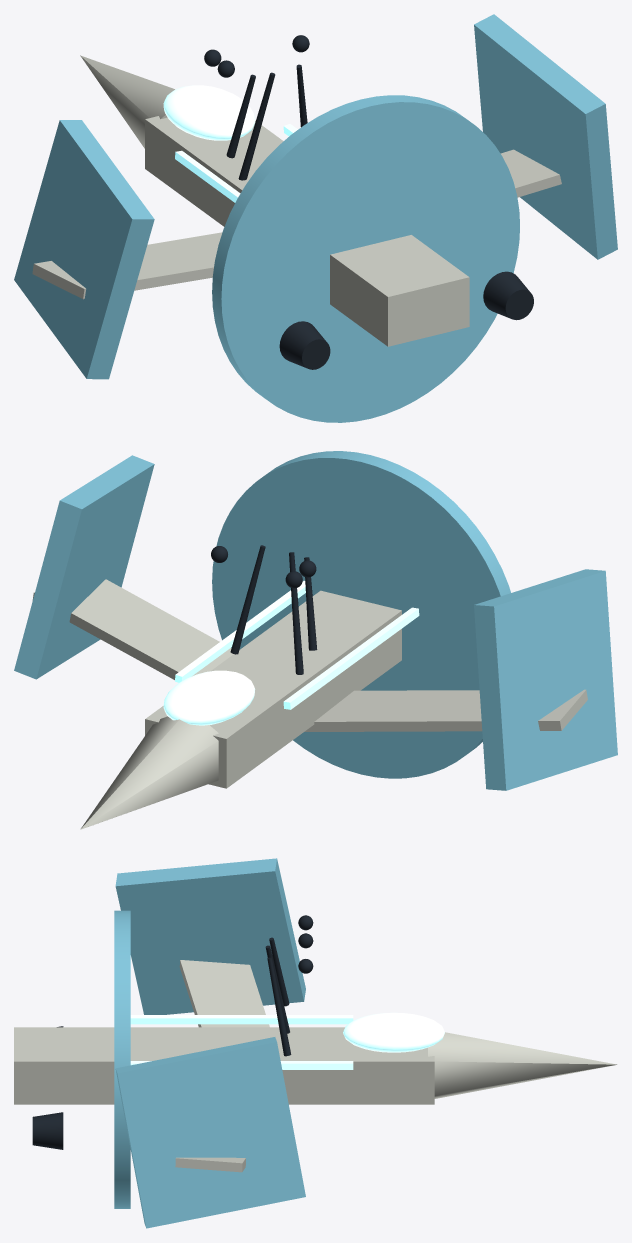
File: wayfarer-x.glb
The picture shows the model from 3 angles, top to bottom: view 1: azimuth 30°, elevation 25°; view 2: azimuth 150°, elevation 25°; view 3: azimuth 270°, elevation 25°; orthographic projection. The views are drawn at different scales.
Parts seen in each view (by area): view 1: aft survey ring, folding sensor lattice -1, folding sensor lattice 1, deep signal keel, wide survey wing -1, forward sensor canopy, survey prow, quiet micro thruster -1, quiet micro thruster 1, wide survey wing 1, survey blue stripe -1, thin comm mast 0 (+1 smaller); view 2: aft survey ring, folding sensor lattice -1, deep signal keel, folding sensor lattice 1, survey prow, wide survey wing -1, wide survey wing 1, forward sensor canopy, survey blue stripe -1, survey blue stripe 1, thin comm mast 1, thin comm mast 0 (+1 smaller); view 3: folding sensor lattice 1, deep signal keel, folding sensor lattice -1, survey prow, aft survey ring, wide survey wing -1, forward sensor canopy, survey blue stripe -1, quiet micro thruster 1, wide survey wing 1, survey blue stripe 1, thin comm mast 1.
Part boxes in pixels (x1,y1,x2,y2): aft survey ring: [212, 95, 519, 422]; folding sensor lattice -1: [14, 120, 154, 379]; folding sensor lattice 1: [474, 14, 617, 259]; deep signal keel: [145, 116, 469, 346]; wide survey wing -1: [32, 232, 222, 299]; forward sensor canopy: [163, 85, 254, 140]; survey prow: [80, 55, 174, 148]; quiet micro thruster -1: [279, 321, 330, 369]; quiet micro thruster 1: [483, 271, 533, 320]; wide survey wing 1: [500, 149, 561, 197]; survey blue stripe -1: [175, 150, 240, 202]; thin comm mast 0: [238, 72, 275, 180]; aft survey ring: [212, 451, 510, 778]; folding sensor lattice -1: [474, 569, 617, 790]; deep signal keel: [145, 590, 401, 788]; folding sensor lattice 1: [14, 455, 154, 679]; survey prow: [80, 716, 218, 829]; wide survey wing -1: [304, 689, 587, 731]; wide survey wing 1: [32, 579, 233, 679]; forward sensor canopy: [163, 670, 255, 725]; survey blue stripe -1: [283, 607, 419, 709]; survey blue stripe 1: [175, 580, 305, 682]; thin comm mast 1: [230, 545, 265, 654]; thin comm mast 0: [289, 552, 303, 674]; folding sensor lattice 1: [115, 1037, 305, 1228]; deep signal keel: [14, 1027, 434, 1104]; folding sensor lattice -1: [115, 858, 305, 1014]; survey prow: [428, 1032, 616, 1098]; aft survey ring: [114, 910, 130, 1208]; wide survey wing -1: [179, 960, 269, 1027]; forward sensor canopy: [343, 1012, 444, 1052]; survey blue stripe -1: [130, 1015, 353, 1024]; quiet micro thruster 1: [32, 1112, 63, 1149]; wide survey wing 1: [175, 1157, 245, 1172]; survey blue stripe 1: [130, 1061, 353, 1069]; thin comm mast 1: [267, 957, 291, 1056].
Bounding box in the file's own units: 72 × 40.48 × 81.88.
